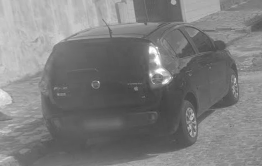car: (38, 23, 240, 146)
